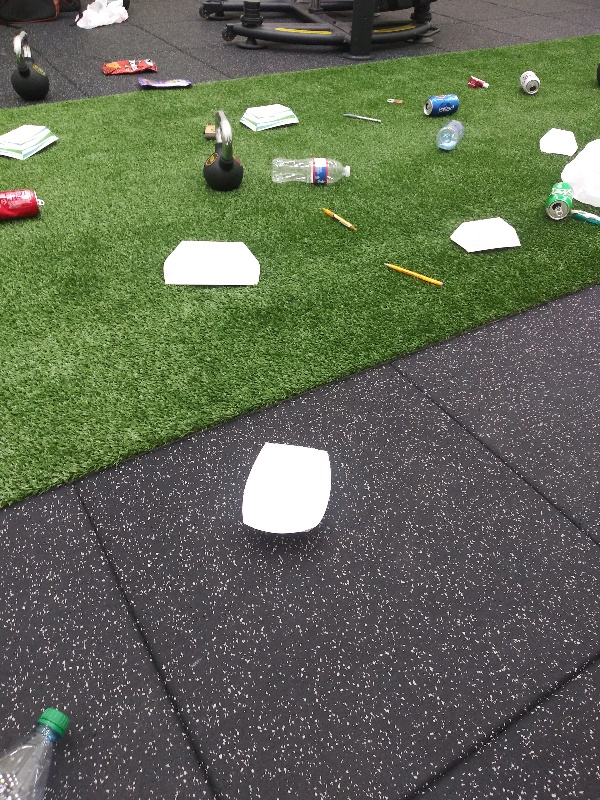bag: (99, 54, 162, 79), (134, 73, 194, 93)
bottle: (1, 699, 77, 800), (266, 154, 353, 192), (431, 113, 473, 152)
can: (1, 182, 51, 224), (540, 180, 579, 221), (417, 90, 465, 116), (515, 67, 543, 96)
plate: (234, 435, 332, 540), (158, 239, 266, 293), (445, 214, 526, 254), (2, 121, 63, 164), (237, 101, 307, 136), (534, 125, 579, 158)
